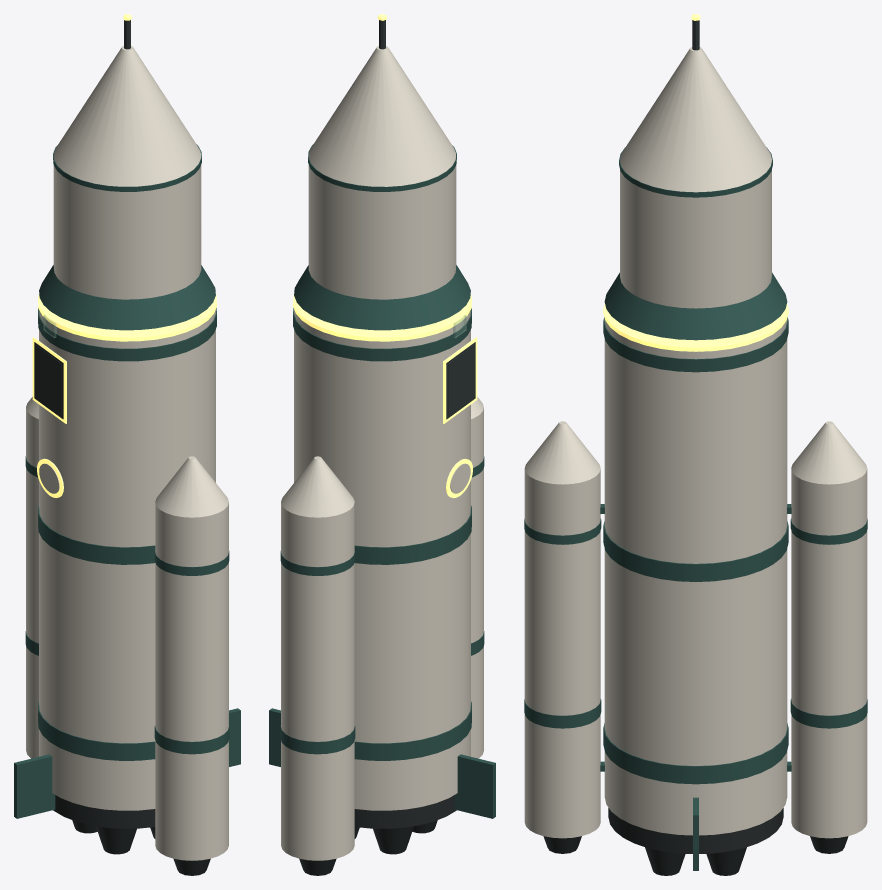
Rendered from rocket-b3.glb.
The picture shows the model from 3 angles, left to right: view 1: azimuth 30°, elevation 25°; view 2: azimuth 150°, elevation 25°; view 3: azimuth 270°, elevation 25°; orthographic projection. The views are drawn at different scales.
Parts seen in each view (by area): view 1: PLAT_B3_Foguete; view 2: PLAT_B3_Foguete; view 3: PLAT_B3_Foguete.
Part boxes in pixels (x1,y1,x2,y2): PLAT_B3_Foguete: (14,14,240,875); PLAT_B3_Foguete: (269,14,495,875); PLAT_B3_Foguete: (524,14,867,875).
Bounding box in the file's own units: 2.62 × 9.17 × 3.38.
